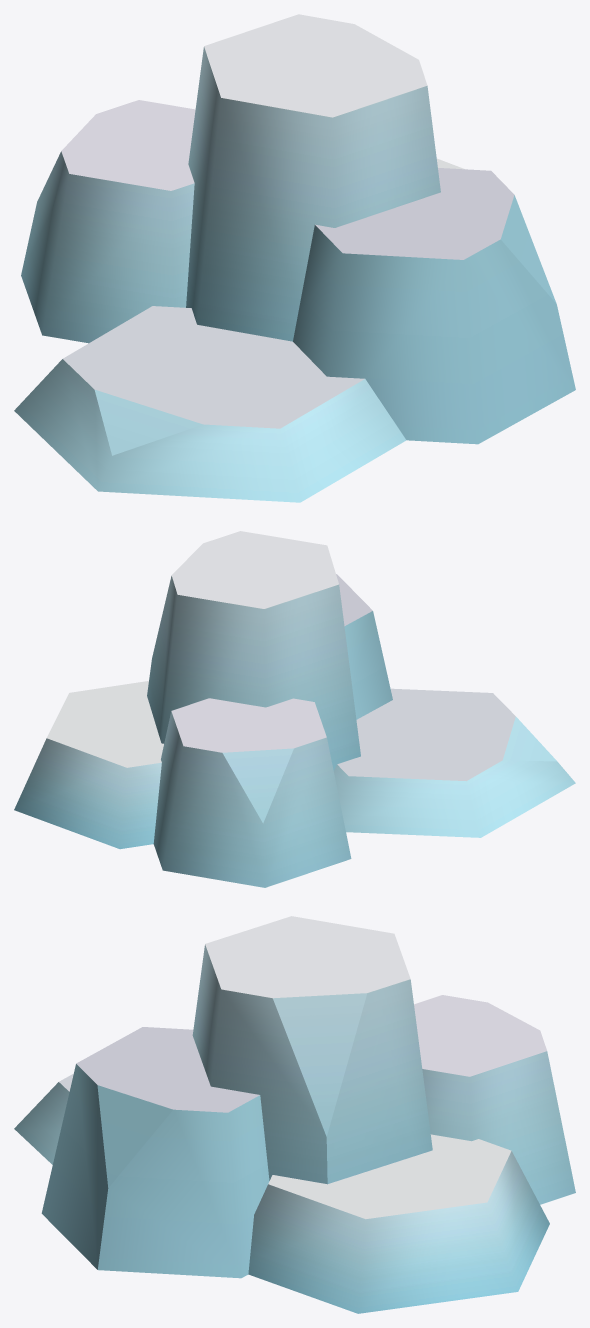
Rendered from kenney-tower-defense-snow-detail-rocks-large.glb.
The picture shows the model from 3 angles, top to bottom: view 1: azimuth 30°, elevation 25°; view 2: azimuth 150°, elevation 25°; view 3: azimuth 270°, elevation 25°; orthographic projection. The views are drawn at different scales.
Parts seen in each view (by area): view 1: snow-detail-rocks-large; view 2: snow-detail-rocks-large; view 3: snow-detail-rocks-large.
Boxes of the visible parts, x1=… form: snow-detail-rocks-large: x1=14, y1=14, x2=575, y2=502; snow-detail-rocks-large: x1=14, y1=531, x2=575, y2=887; snow-detail-rocks-large: x1=14, y1=916, x2=575, y2=1313.
Size of the model in its own units: 0.8922 by 0.4145 by 0.8593.
Materials: 1 (1 with a texture image).
